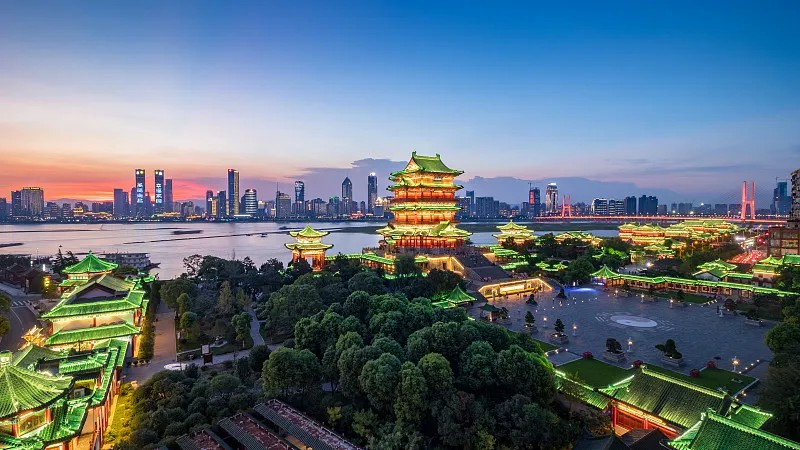Teng: (360, 151, 492, 276)
